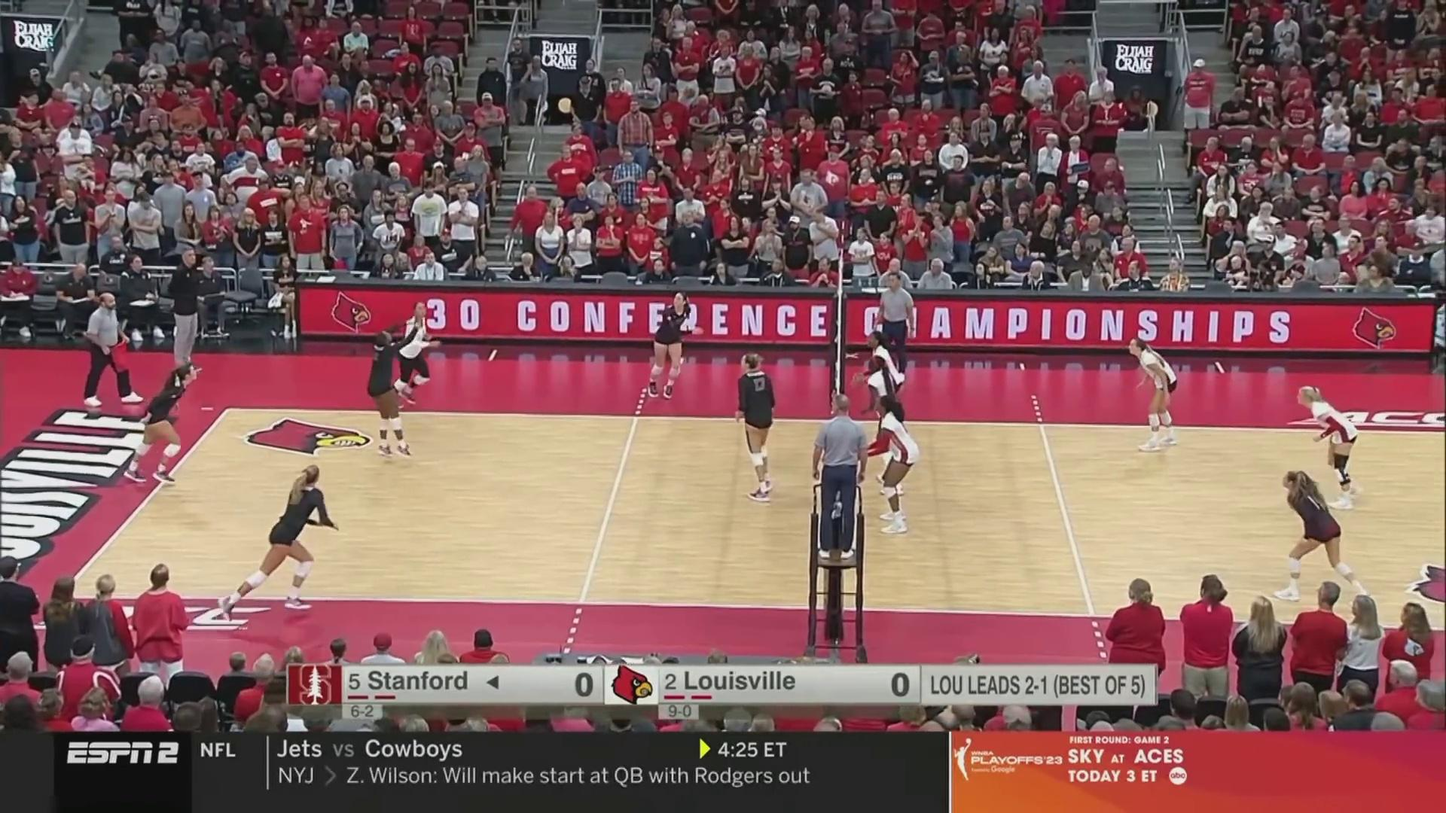player: (225, 465, 340, 615), (1275, 471, 1370, 602), (124, 363, 200, 489), (1293, 389, 1365, 509), (863, 398, 920, 531), (736, 355, 787, 502), (364, 327, 419, 459), (1130, 339, 1192, 455), (865, 359, 911, 496), (380, 298, 437, 405), (863, 330, 908, 461), (644, 291, 697, 401)
refree: (814, 401, 867, 563), (80, 291, 144, 410), (872, 271, 914, 388)
